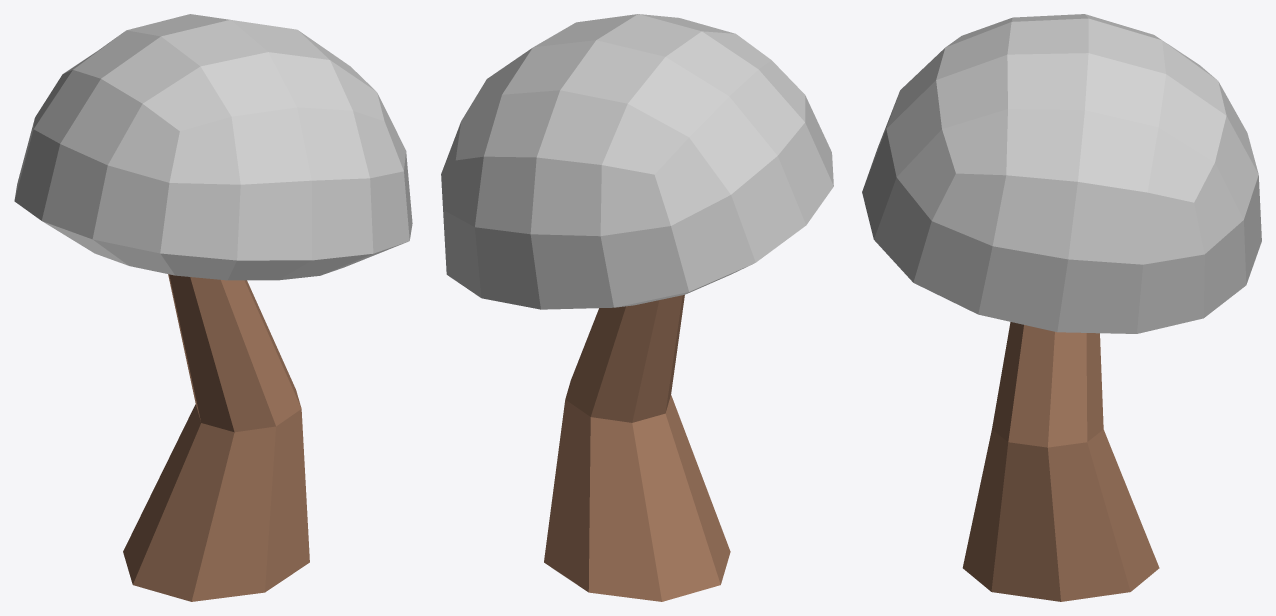
File: mesh_mushroom_03_white.fbx
The picture shows the model from 3 angles, left to right: view 1: azimuth 30°, elevation 25°; view 2: azimuth 150°, elevation 25°; view 3: azimuth 270°, elevation 25°; orthographic projection.
Parts seen in each view (by area): view 1: mesh_mushroom_03_white_LOD0; view 2: mesh_mushroom_03_white_LOD0; view 3: mesh_mushroom_03_white_LOD0.
Boxes of the visible parts, x1=… form: mesh_mushroom_03_white_LOD0: x1=14, y1=14, x2=412, y2=601; mesh_mushroom_03_white_LOD0: x1=441, y1=14, x2=833, y2=601; mesh_mushroom_03_white_LOD0: x1=862, y1=14, x2=1261, y2=601.
Size of what is drawn, in the model's own units: 0.3075 by 0.4577 by 0.3092.
